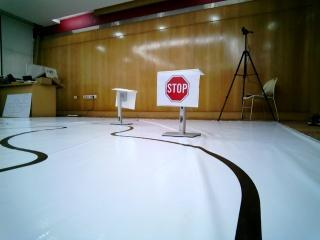stop: (157, 69, 201, 111)
